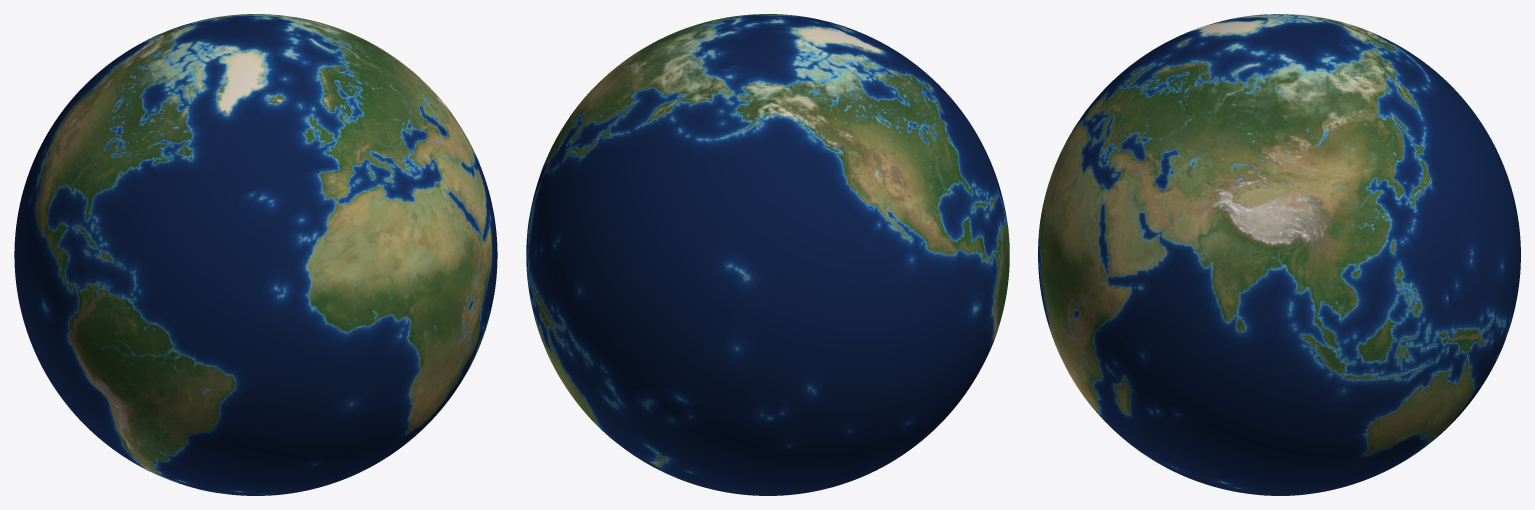
The model's file is earth_cad_dem.glb.
3 renders of one model, left to right at view 1: azimuth 30°, elevation 25°; view 2: azimuth 150°, elevation 25°; view 3: azimuth 270°, elevation 25°, orthographic.
Visible parts, largest first — view 1: earth_cad_globe; view 2: earth_cad_globe; view 3: earth_cad_globe.
Part boxes in pixels (bbox=[...]): earth_cad_globe: bbox=[14, 14, 497, 495]; earth_cad_globe: bbox=[526, 14, 1009, 495]; earth_cad_globe: bbox=[1038, 14, 1520, 495].
Bounding box in the file's own units: 2 × 1.99 × 2.
Materials: 1 (1 with a texture image).
